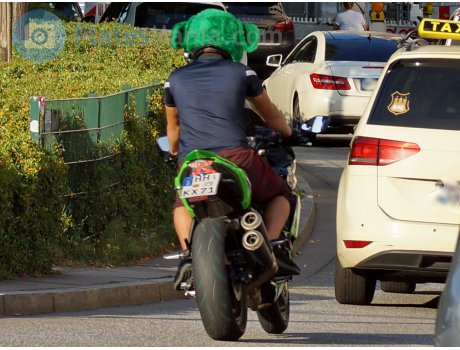License Plates: (186, 176, 210, 192)
